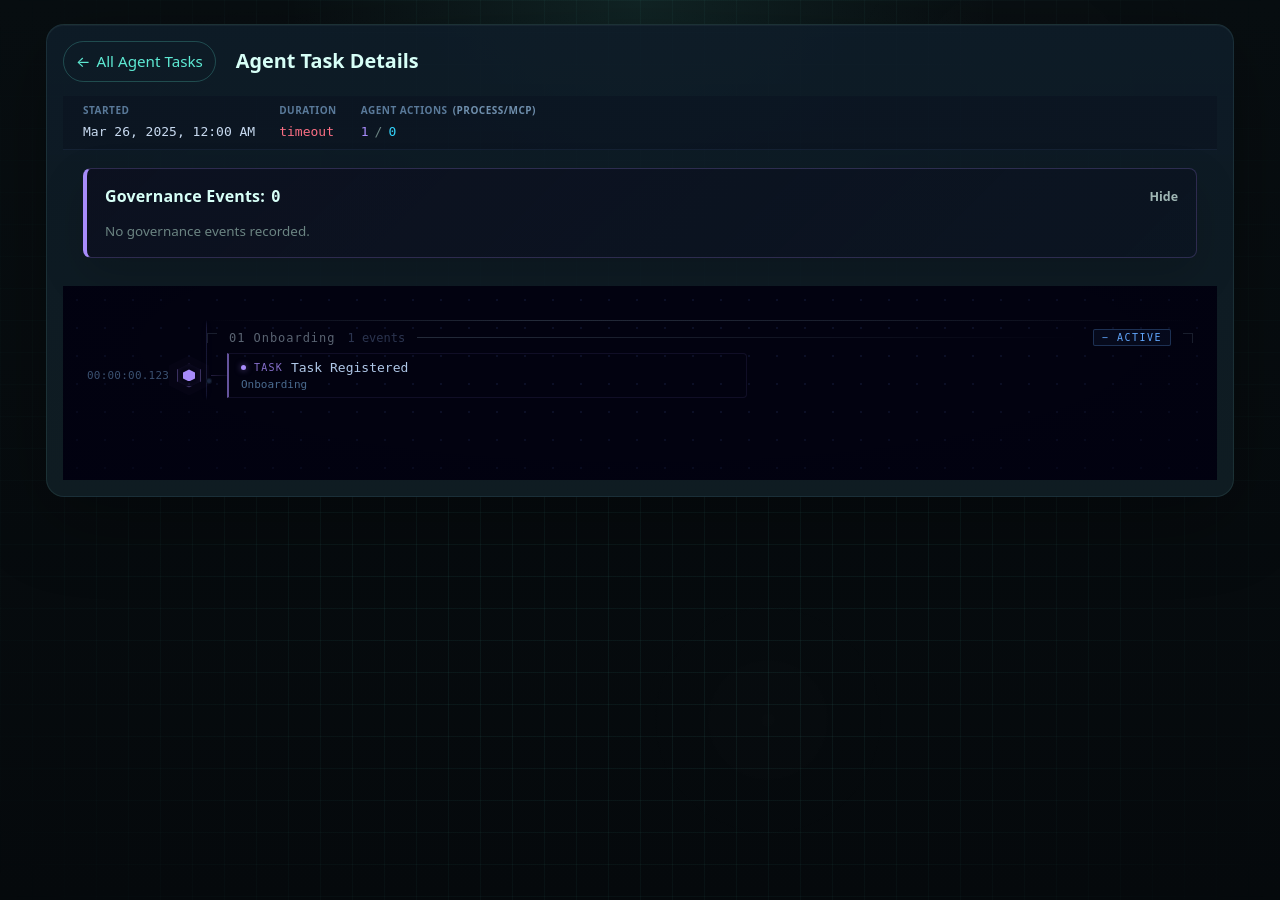
Test: task run detail › collapses and re-expands the side inspector
The width and height of the screenshot is (1280, 900).
Check: the heading "Agent Task Details" is shown, box [236,50,419,72]
Check: the text "Inspector" is not shown
Click the button with aria-label "show event details for task registered".
click(640, 376)  # box [87,350,1193,400]
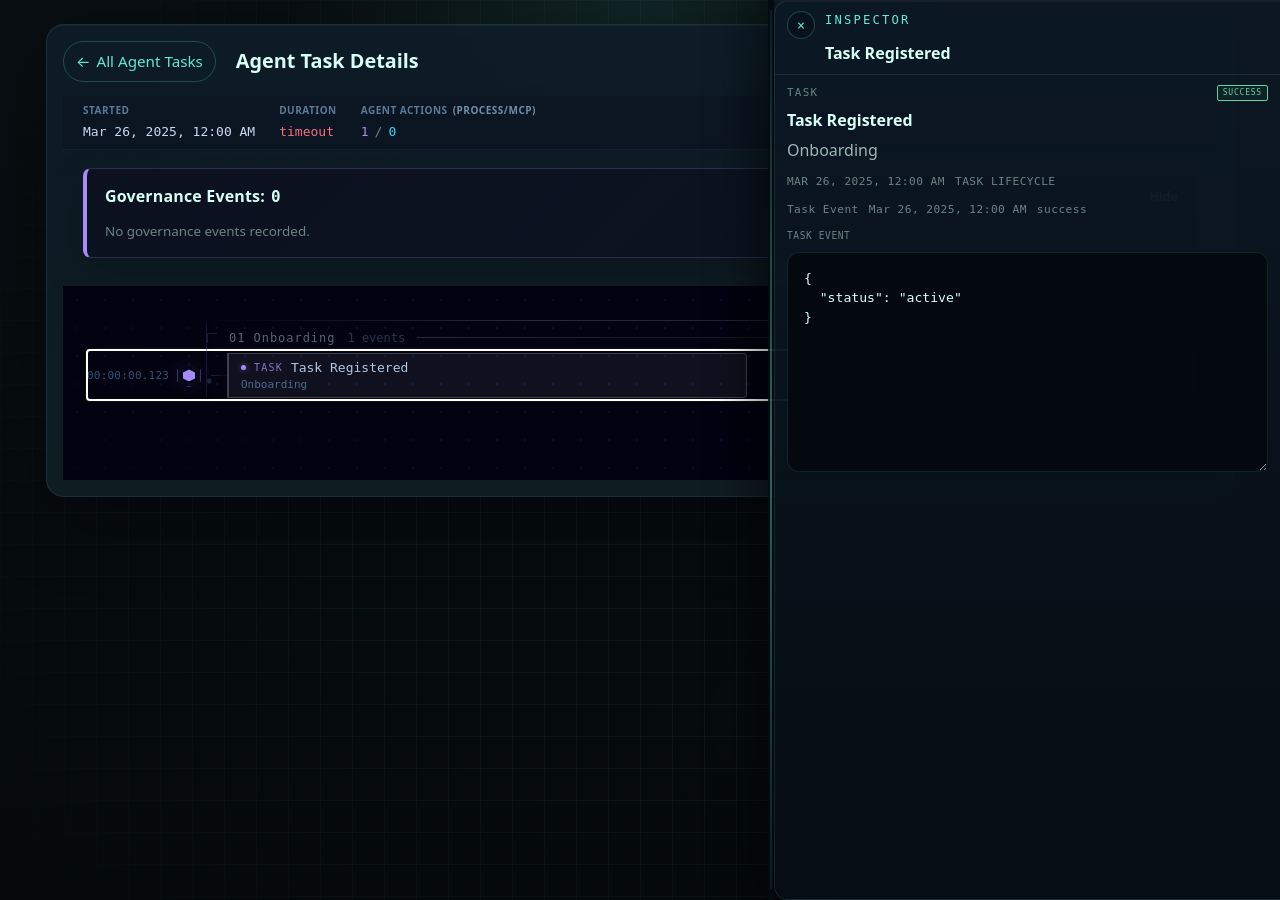
Check: the text "Inspector" is shown, box [825,13,910,27]
Click the button named "Hide detail panel".
click(801, 25)  # box [787,11,815,39]
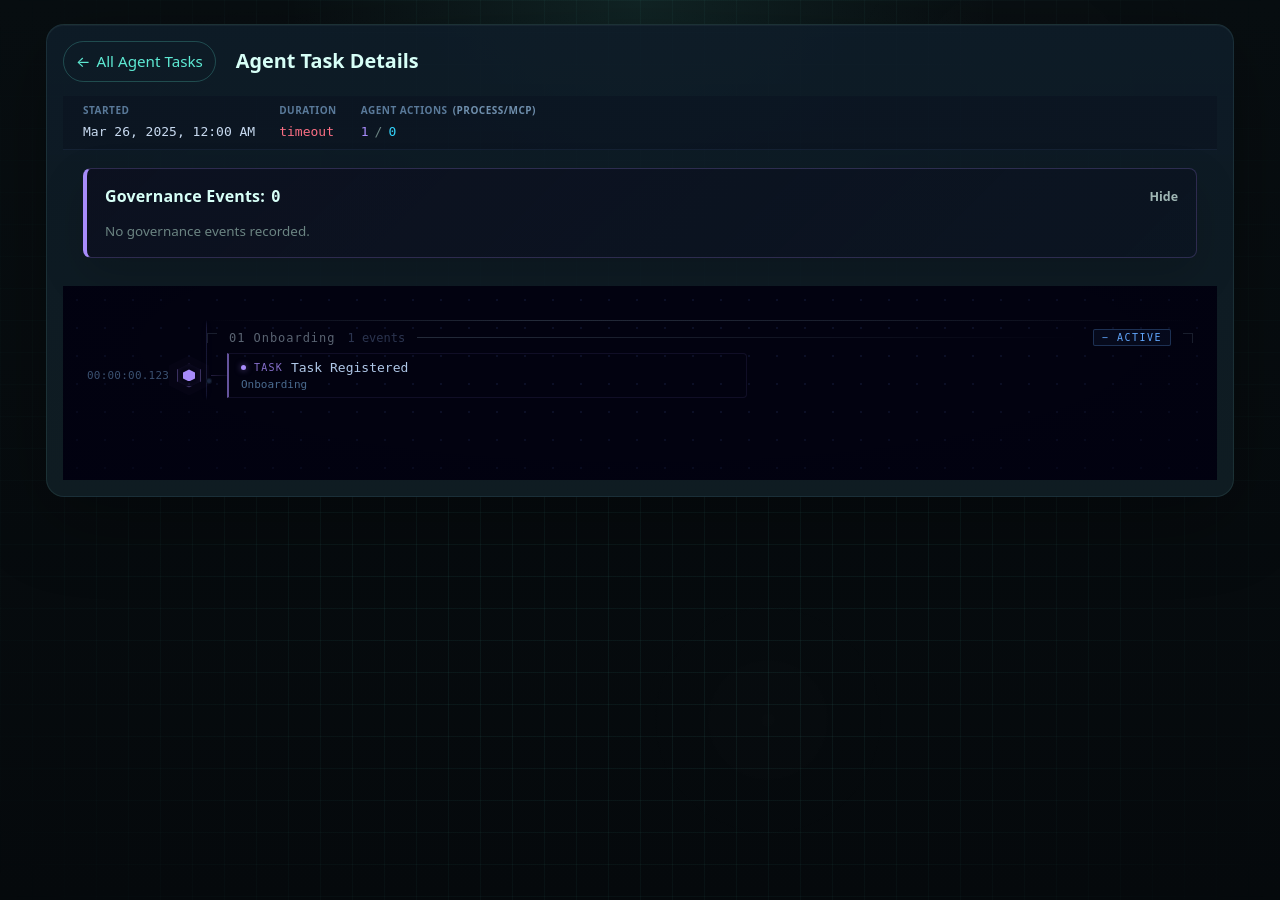
Check: the text "Inspector" is gone
